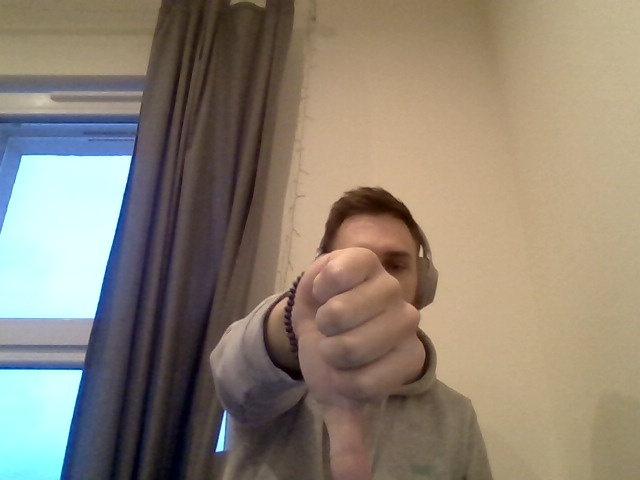ThumbsDown: (293, 246, 425, 480)
